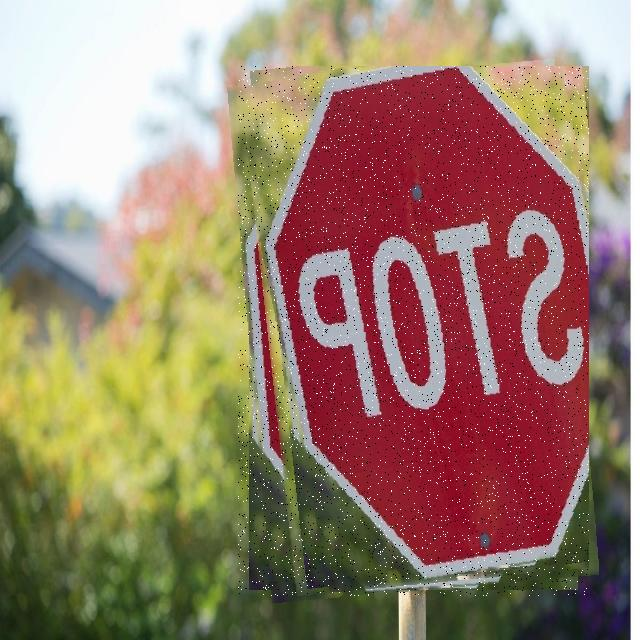stop: (238, 66, 589, 596)
